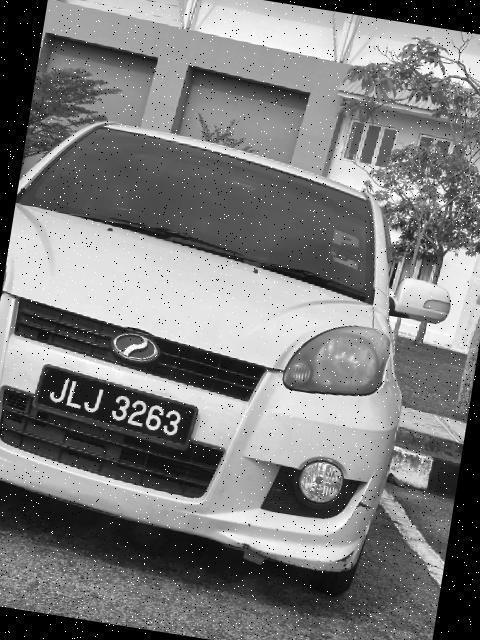JLJ3263: (21, 363, 206, 458)
License_Plate: (21, 363, 206, 458)
